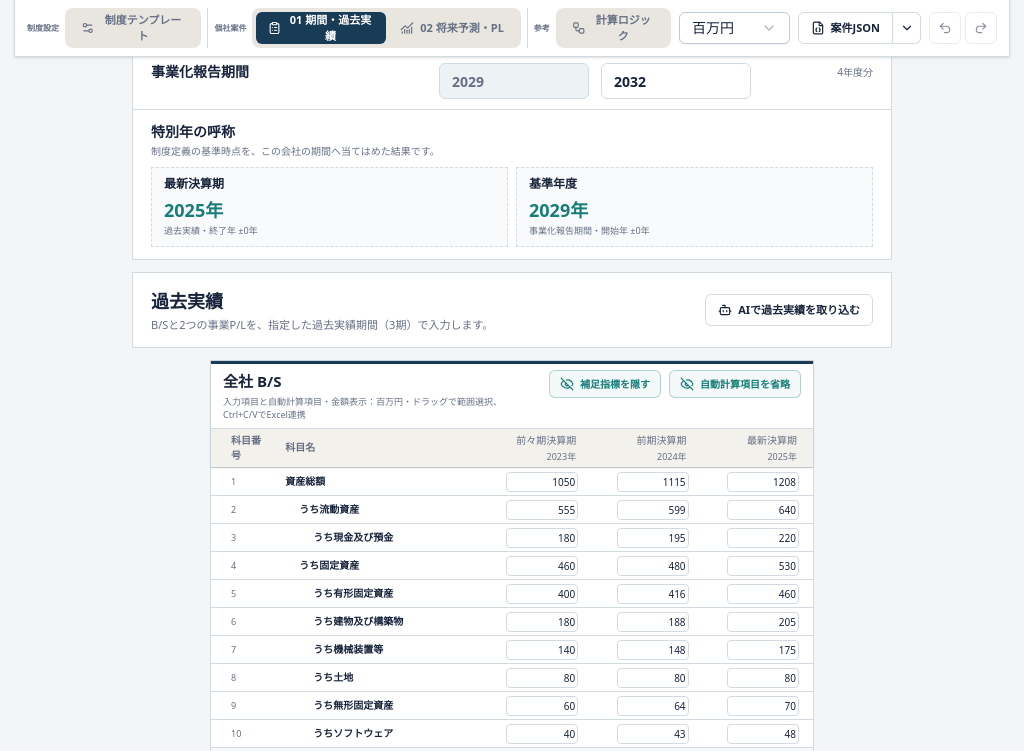
Test: 期間・過去実績 › 全社B/Sの申請向け指標を補足指標としてまとめて表示切替する
(page scrolled)
Click the button "補足指標を隠す". click: (605, 384)
box: 549,370 -> 661,398
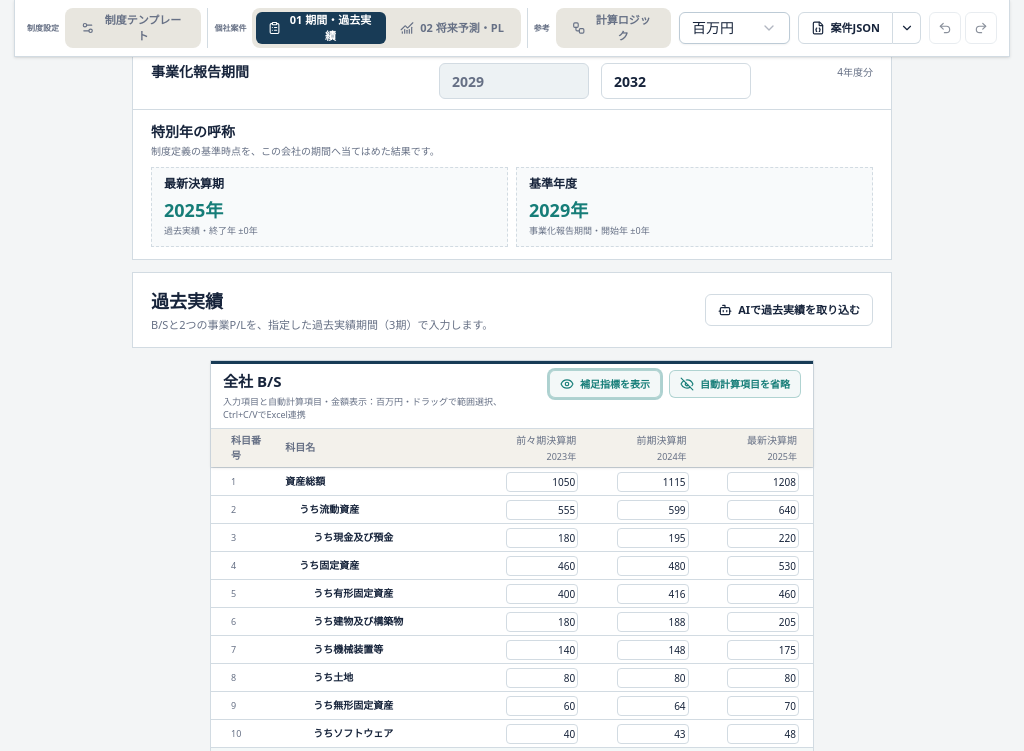
expect the button "補足指標を表示" is shown: met, box 549,370 -> 661,398
